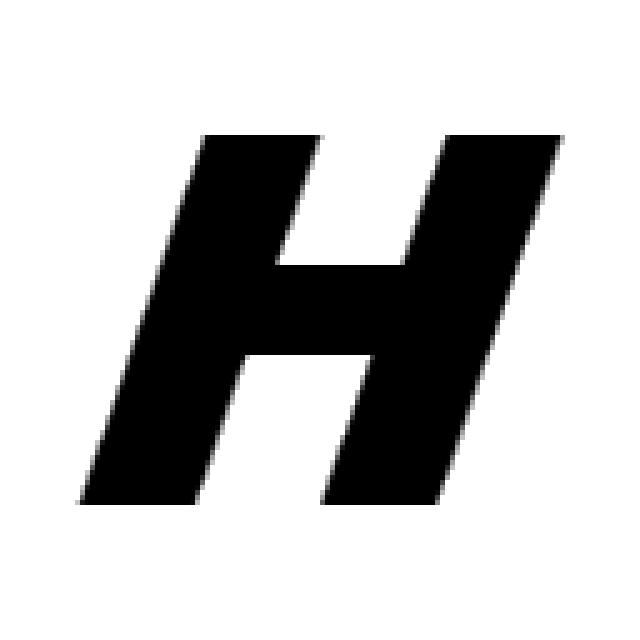H: (70, 120, 565, 510)
